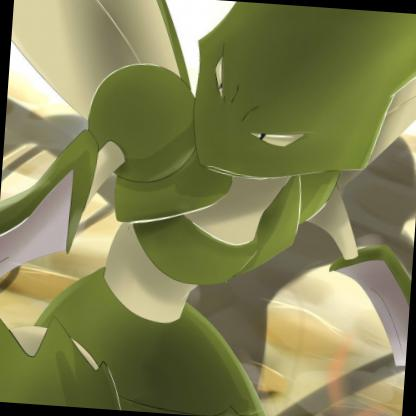Scyther: (1, 1, 416, 398)
